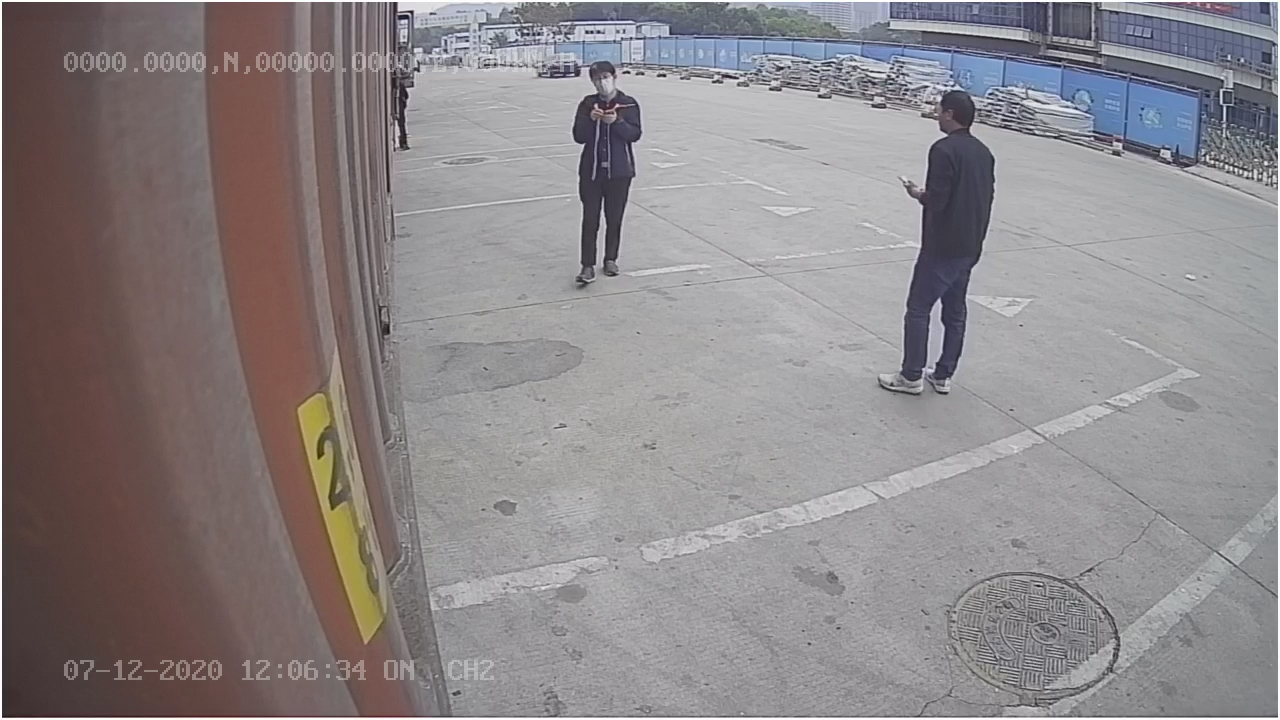person: (877, 85, 1000, 399), (568, 54, 641, 289)
